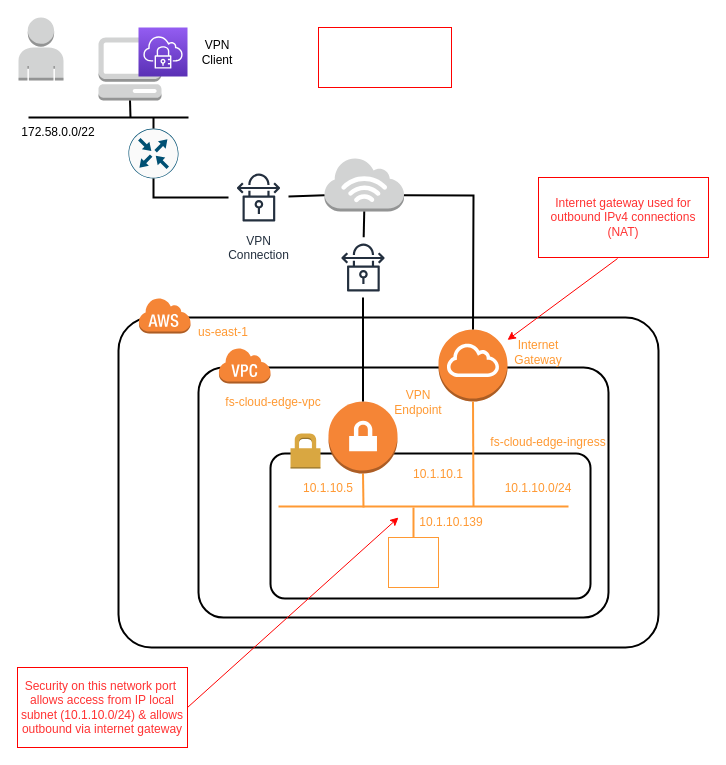
Some shapes in this 726 by 765 pixel diagram are drawn without their labels. Here are the shapes that lost their labels. From the top down, the centre of each, then its label:
At point 385,57: "User behaves as if on remote subnet (10.1.10.0/24)".
At point 413,562: "EC2 Ubuntu Instance".
